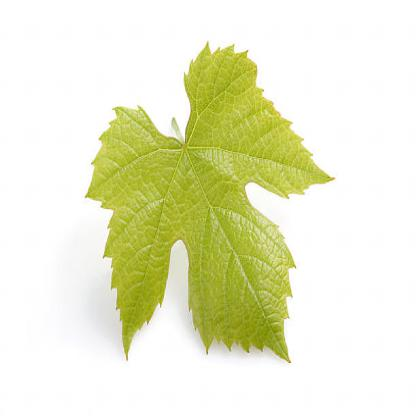grape leaf: (86, 35, 332, 385)
